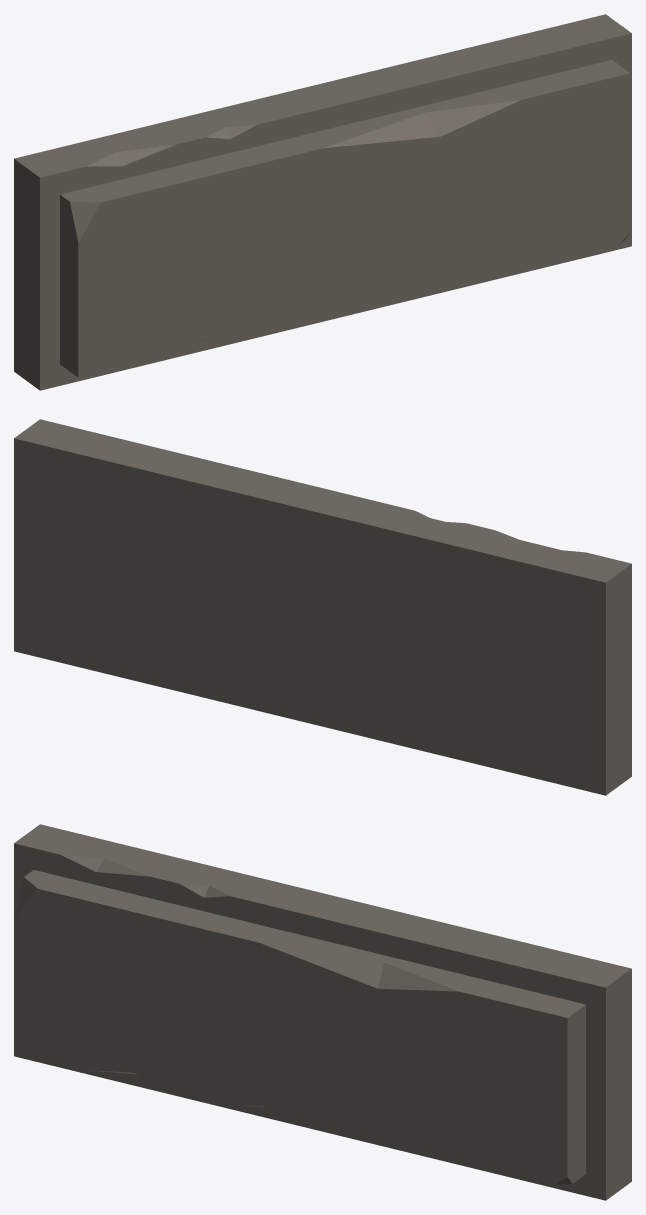
File: SM_Prop_Sign_Attachment_01.obj
3 renders of one model, top to bottom at view 1: azimuth 30°, elevation 25°; view 2: azimuth 150°, elevation 25°; view 3: azimuth 330°, elevation 25°, orthographic.
Parts seen in each view (by area): view 1: SM_Prop_Sign_Attachment_01_0; view 2: SM_Prop_Sign_Attachment_01_0; view 3: SM_Prop_Sign_Attachment_01_0.
Part boxes in pixels (bbox=[...]): SM_Prop_Sign_Attachment_01_0: bbox=[14, 14, 631, 390]; SM_Prop_Sign_Attachment_01_0: bbox=[14, 419, 631, 795]; SM_Prop_Sign_Attachment_01_0: bbox=[14, 824, 631, 1200].
Bounding box in the file's own units: 2.51 × 0.8618 × 0.3267.
Materials: 1 (1 with a texture image).
